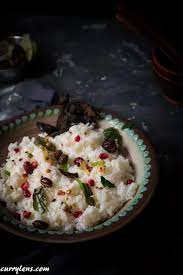curd_rice: (5, 115, 146, 234)
